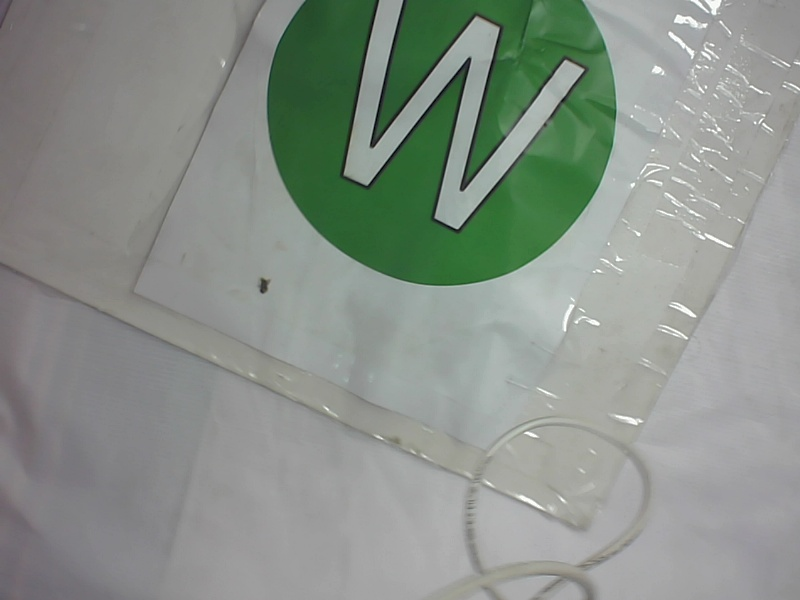areaB: (255, 2, 640, 290)
